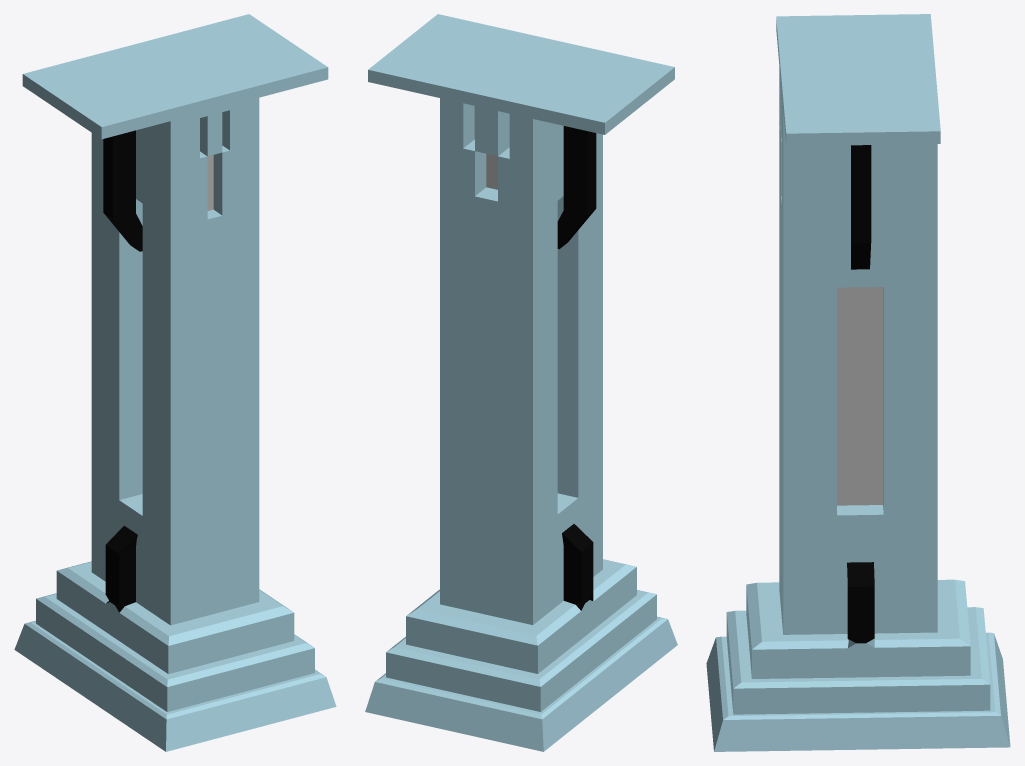
The model's file is Solar-Pillar 1.fbx.
The picture shows the model from 3 angles, left to right: view 1: azimuth 30°, elevation 25°; view 2: azimuth 150°, elevation 25°; view 3: azimuth 270°, elevation 25°; orthographic projection. The views are drawn at different scales.
Visible parts, largest first — view 1: Cube.049; view 2: Cube.049; view 3: Cube.049.
Boxes of the visible parts, box(x1,y1,x2,y2) form: Cube.049: box(14, 14, 336, 751); Cube.049: box(365, 14, 677, 751); Cube.049: box(706, 14, 1010, 751).
Bounding box in the file's own units: 459 × 1128 × 492.
